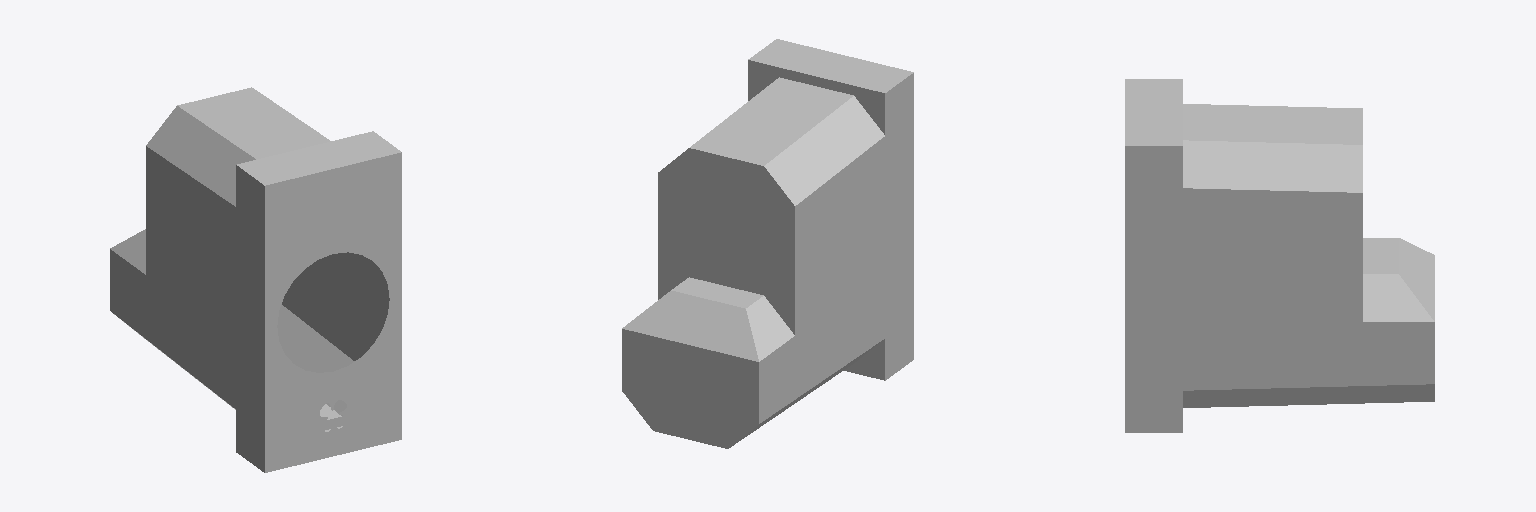
Rendered from original-31.obj.
3 views of the same model, side by side, from view 1: azimuth 30°, elevation 25°; view 2: azimuth 150°, elevation 25°; view 3: azimuth 270°, elevation 25° (orthographic).
Visible parts, largest first — view 1: #ID1320; view 2: #ID1320; view 3: #ID1320.
Part boxes in pixels (x1,y1,x2,y2): #ID1320: (110,87,401,472); #ID1320: (622,39,913,448); #ID1320: (1125,79,1434,432).
Bounding box in the file's own units: 0.3119 × 0.6237 × 0.6095.